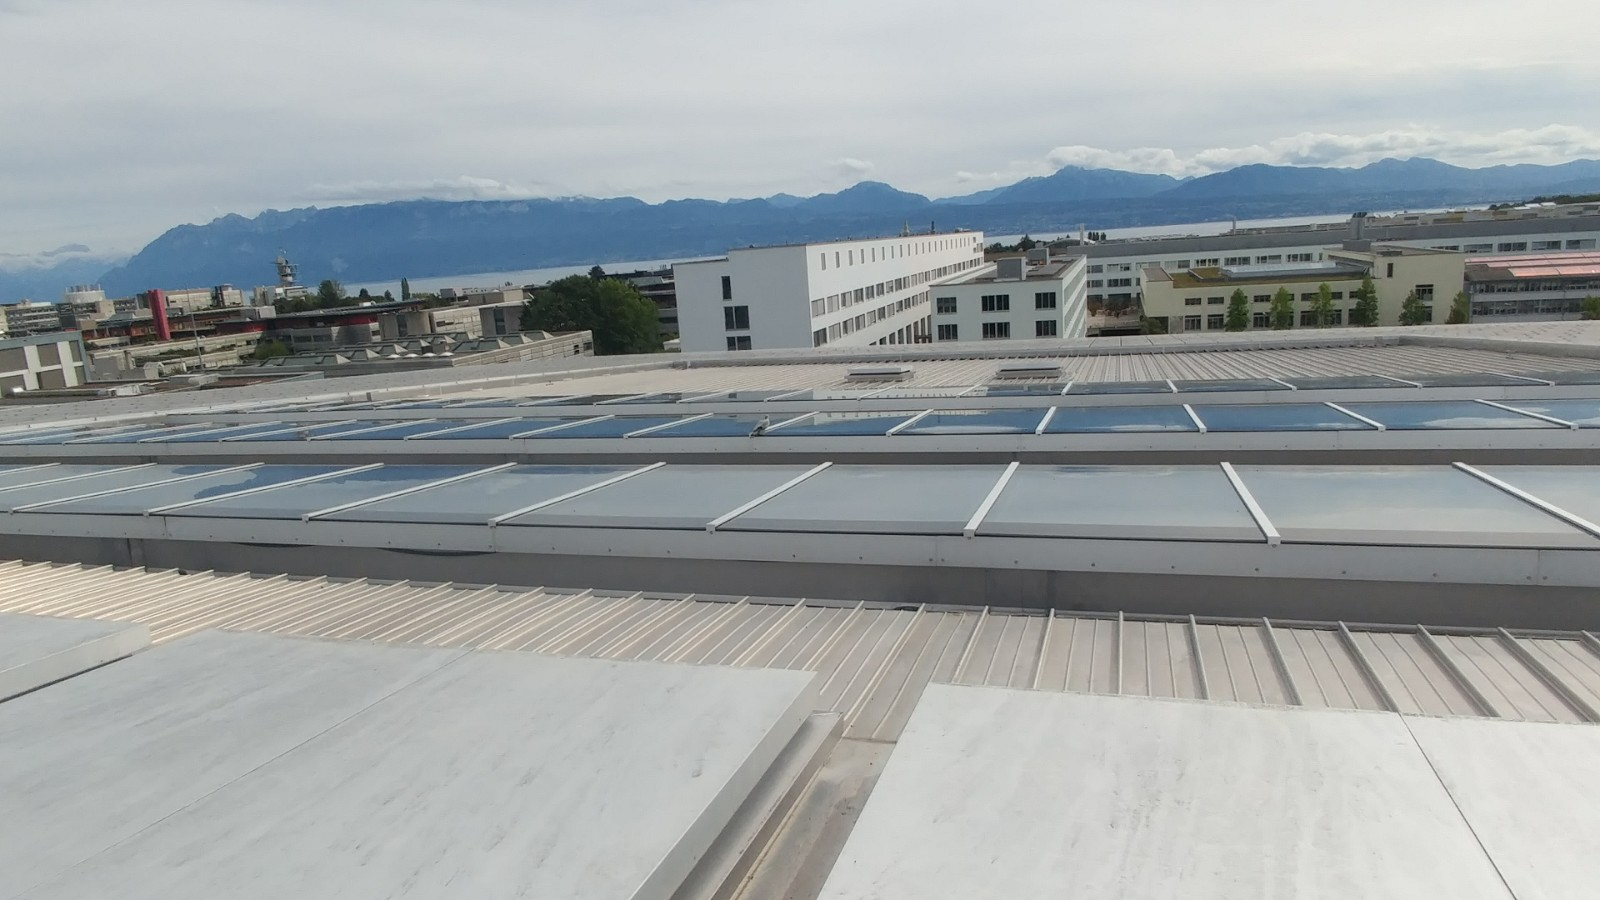Pigeon: (744, 413, 775, 440)
